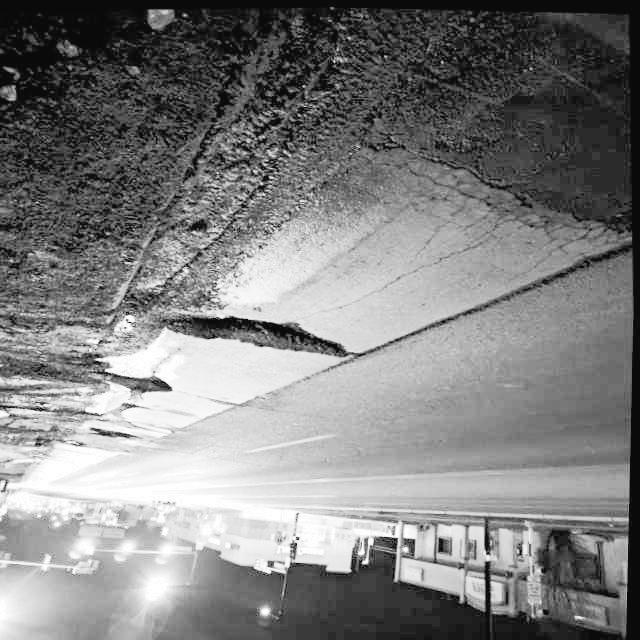Pothole: (183, 297, 354, 376)
